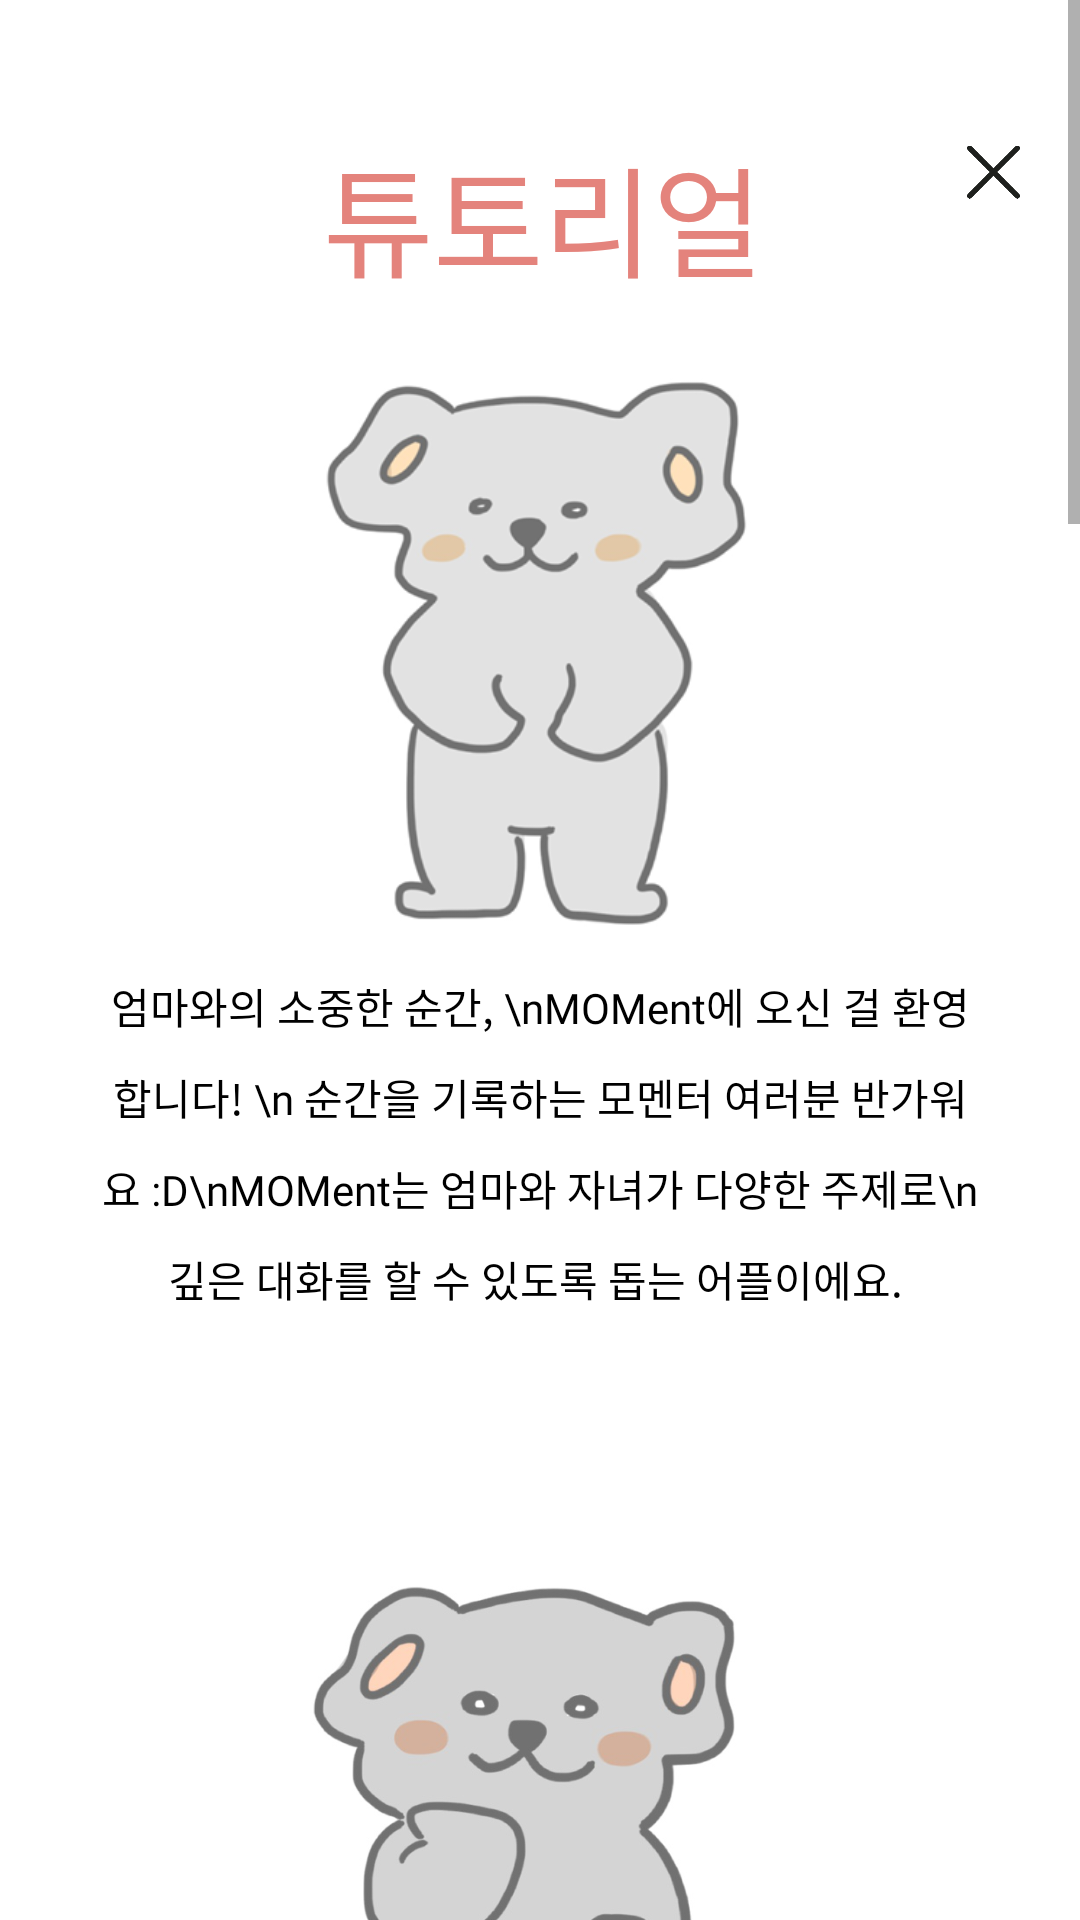

Screen size 1080px x 1920px. Icon name, then its box in pixels as [x1,y1,x2,y2]:
close tutorial: [967,146,1020,199]
